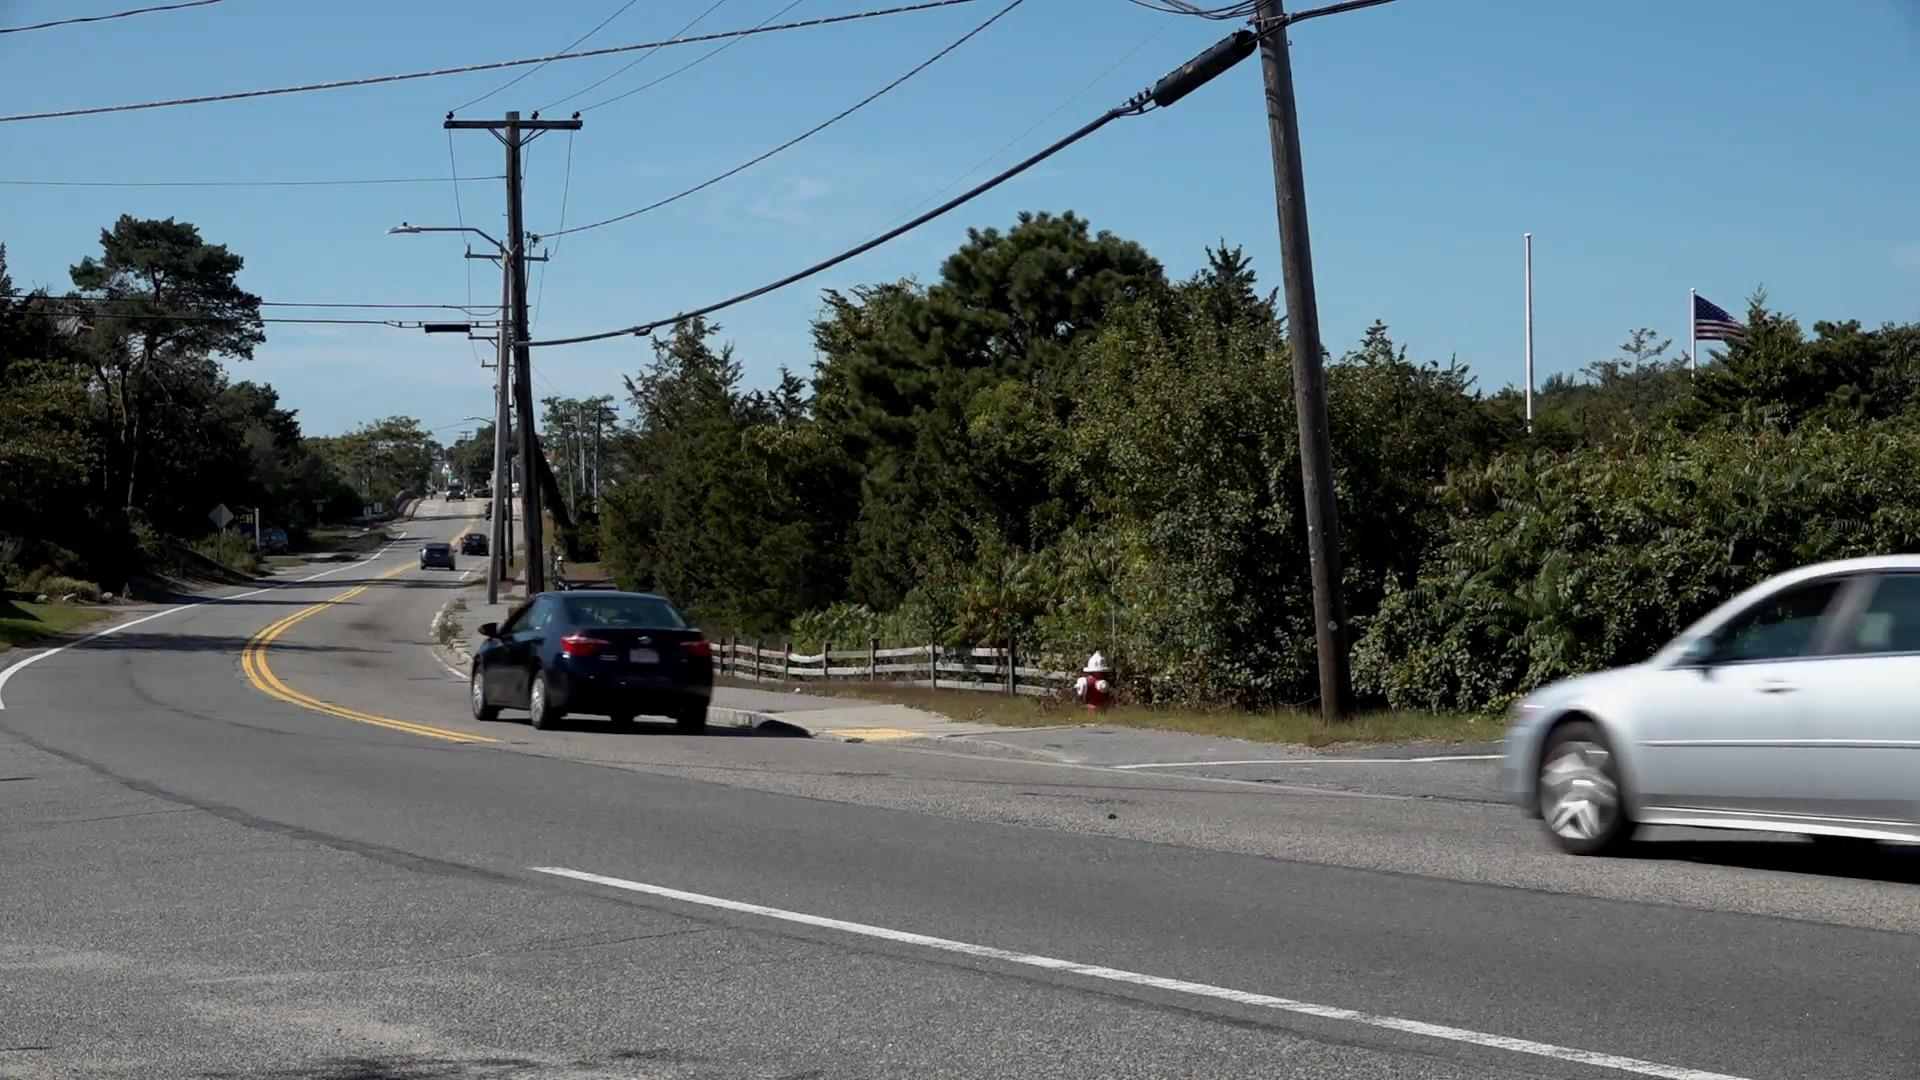sedans: (1510, 549, 1920, 847), (467, 590, 716, 730)
